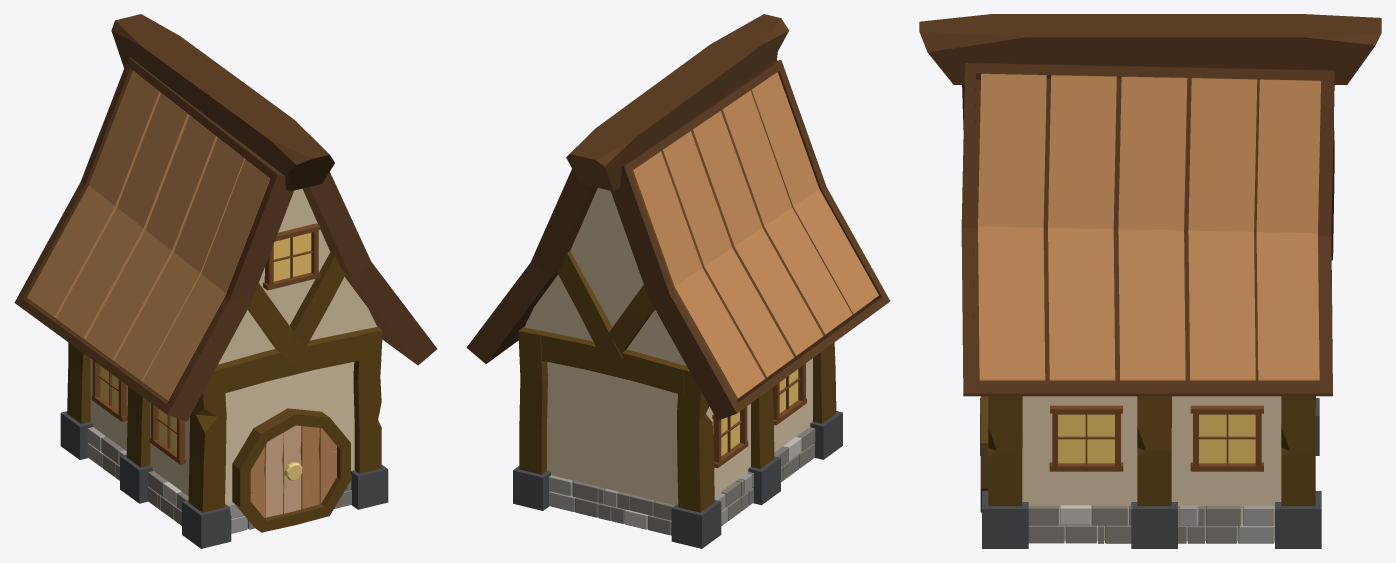
File: RUIN_HOUSE2.fbx
The picture shows the model from 3 angles, left to right: view 1: azimuth 30°, elevation 25°; view 2: azimuth 150°, elevation 25°; view 3: azimuth 270°, elevation 25°; orthographic projection. The views are drawn at different scales.
Visible parts, largest first — view 1: Cylinder.038; view 2: Cylinder.038; view 3: Cylinder.038.
Boxes of the visible parts, x1,y1,x2,y2 form: Cylinder.038: (14,14,437,548); Cylinder.038: (466,14,890,548); Cylinder.038: (919,14,1381,548).
Size of the model in its own units: 1611 by 2225 by 1977.
